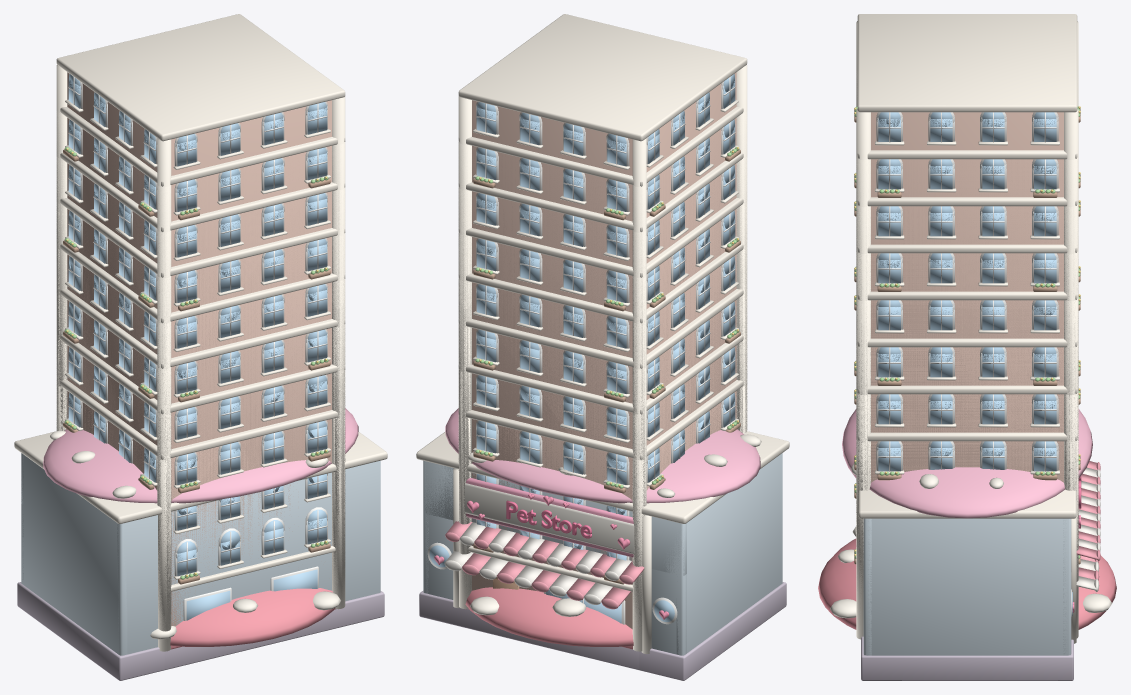
Rendered from petcity.glb.
The picture shows the model from 3 angles, left to right: view 1: azimuth 30°, elevation 25°; view 2: azimuth 150°, elevation 25°; view 3: azimuth 270°, elevation 25°; orthographic projection. The views are drawn at different scales.
Parts seen in each view (by area): view 1: PetStore, Tower10, Tower6, Tower3, Tower9, Tower8, Tower7, Tower5, Tower4, RoofCap; view 2: PetStore, Tower10, Tower7, Tower3, Tower8, Tower6, Tower9, Tower5, Tower4, RoofCap; view 3: PetStore, Tower10, Tower8, Tower9, Tower5, Tower4, Tower7, Tower6, Tower3, RoofCap.
Part boxes in pixels (x1,y1,x2,y2): PetStore: (14, 408, 387, 680); Tower10: (56, 14, 345, 651); Tower6: (57, 244, 345, 606); Tower3: (56, 380, 345, 669); Tower9: (56, 107, 345, 576); Tower8: (56, 153, 345, 595); Tower7: (56, 198, 345, 607); Tower5: (56, 289, 345, 607); Tower4: (57, 335, 345, 629); RoofCap: (150, 588, 340, 646); PetStore: (416, 408, 789, 680); Tower10: (458, 14, 747, 651); Tower7: (458, 198, 747, 607); Tower3: (444, 380, 747, 669); Tower8: (458, 153, 747, 605); Tower6: (458, 244, 746, 607); Tower9: (458, 107, 747, 601); Tower5: (458, 289, 747, 607); Tower4: (458, 335, 746, 634); RoofCap: (465, 587, 633, 646); PetStore: (842, 409, 1100, 680); Tower10: (856, 14, 1078, 639); Tower8: (856, 197, 1078, 485); Tower9: (854, 72, 1080, 485); Tower5: (854, 294, 1080, 482); Tower4: (856, 385, 1078, 638); Tower7: (854, 200, 1080, 489); Tower6: (856, 291, 1078, 579); Tower3: (854, 388, 1099, 639); RoofCap: (818, 526, 1116, 629).
Bounding box in the file's own units: 20.16 × 35.42 × 17.28.
